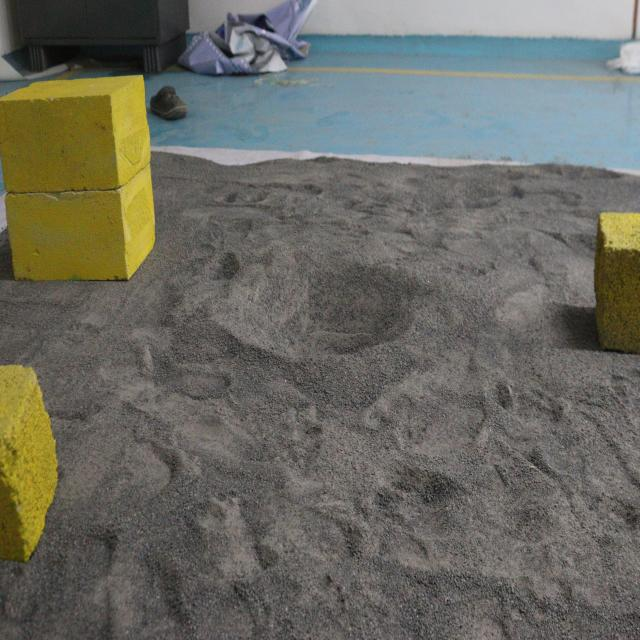box: (0, 80, 155, 284), (592, 202, 640, 359)
crater: (203, 242, 421, 371)
